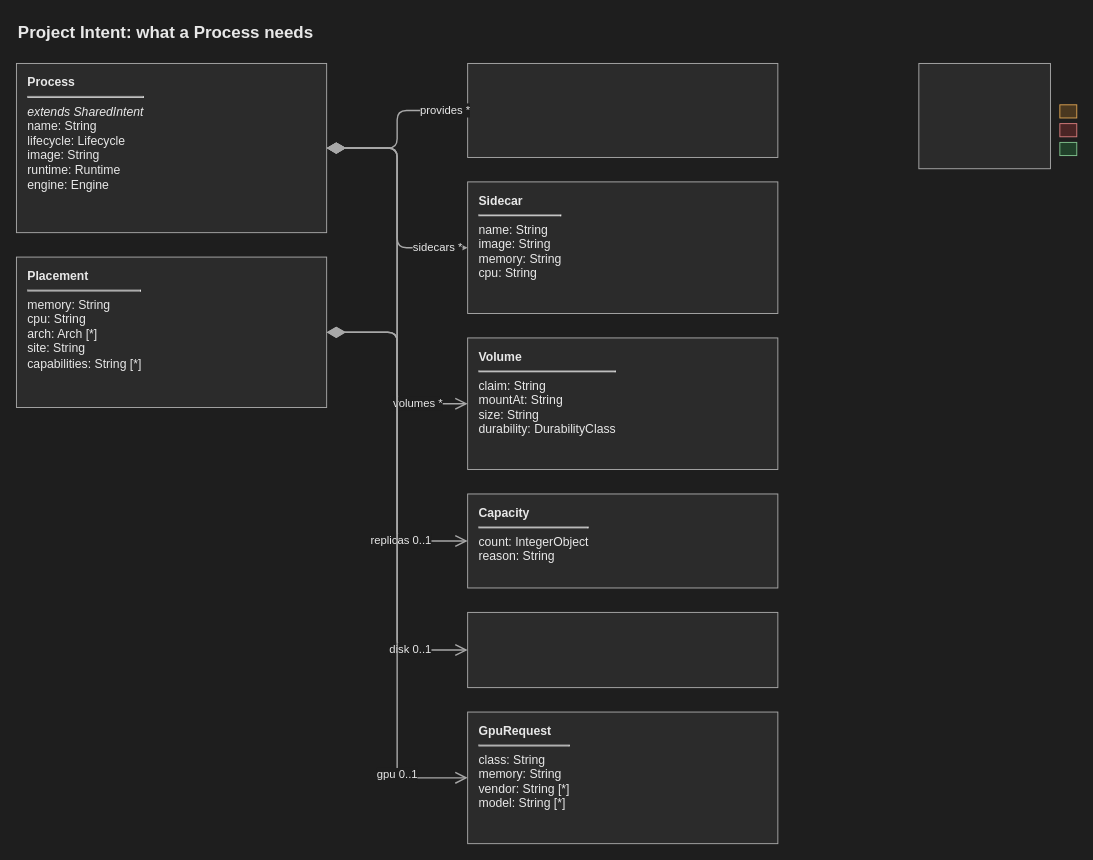
Some shapes in this 1093 by 860 pixel diagram are drawn without their labels. Here are the shapes that lost their labels. From the top down, the centre of each, then its label:
At pixel 622 110: "Surface key: String value: IntegerObject".
At pixel 984 116: "Legend carried over changed removed new".
At pixel 622 649: "DiskRequest media: Media [*]".
